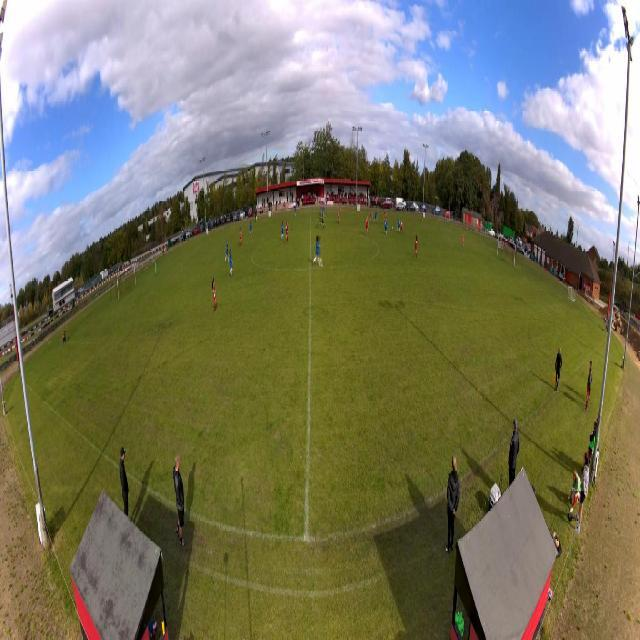ball: (392, 226, 393, 230)
player: (312, 236, 323, 268), (212, 278, 218, 314), (318, 210, 325, 232), (225, 239, 230, 264), (229, 250, 233, 277), (414, 233, 418, 258), (281, 218, 285, 242), (239, 226, 243, 248), (285, 222, 289, 243), (366, 216, 370, 235), (374, 209, 379, 224), (249, 219, 253, 235), (369, 210, 373, 224), (338, 206, 341, 224), (155, 260, 158, 278), (462, 231, 465, 248), (400, 219, 403, 236), (385, 218, 388, 235), (398, 218, 401, 234), (384, 208, 387, 224), (294, 204, 297, 218), (323, 205, 326, 216)
